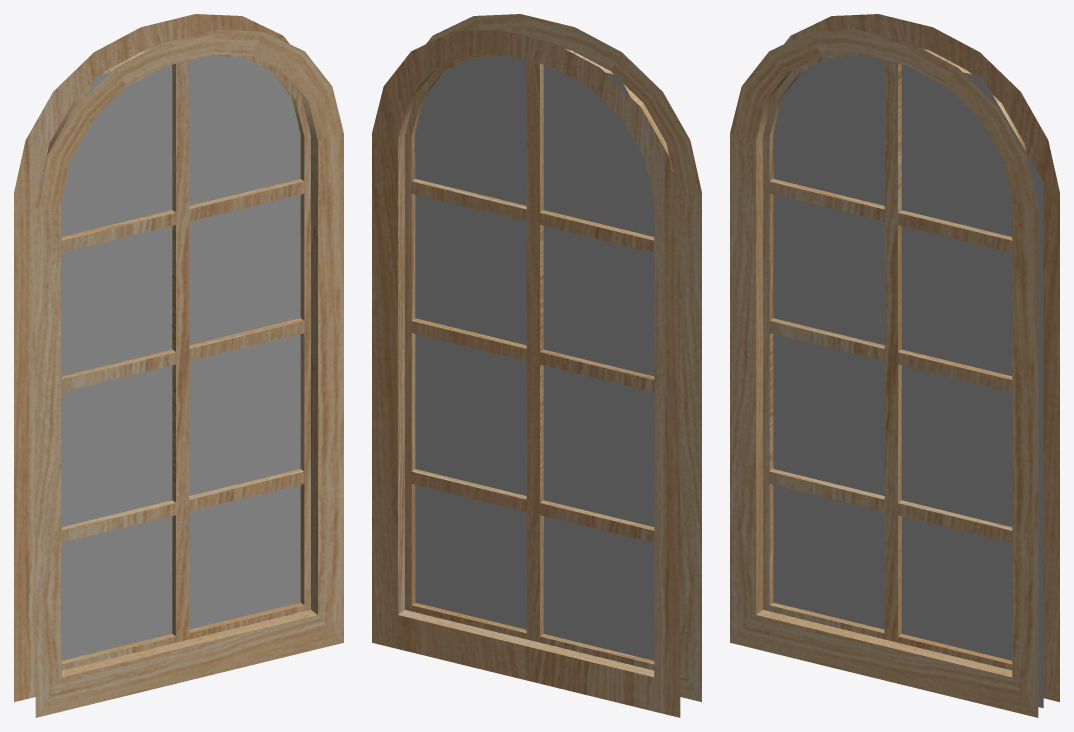
File: ARC0510039.fbx
3 views of the same model, side by side, from view 1: azimuth 30°, elevation 25°; view 2: azimuth 150°, elevation 25°; view 3: azimuth 330°, elevation 25° (orthographic).
Parts seen in each view (by area): view 1: smARC0510039; view 2: smARC0510039; view 3: smARC0510039.
Boxes of the visible parts, box(x1,y1,x2,y2) form: smARC0510039: box(14, 14, 343, 717); smARC0510039: box(372, 14, 701, 717); smARC0510039: box(730, 14, 1059, 717).
Size of the model in its own units: 123 by 246 by 14.88.
2 materials, 1 textured.
